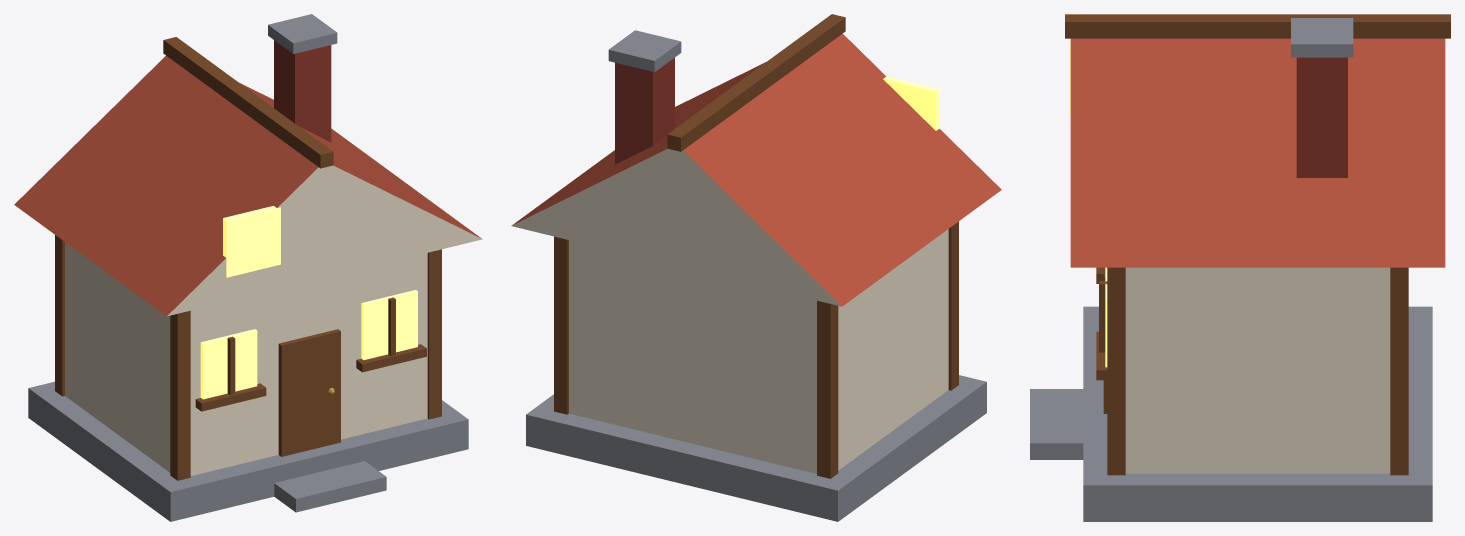
The model's file is House.glb.
3 views of the same model, side by side, from view 1: azimuth 30°, elevation 25°; view 2: azimuth 150°, elevation 25°; view 3: azimuth 270°, elevation 25° (orthographic). The views are drawn at different scales.
Parts seen in each view (by area): view 1: House; view 2: House; view 3: House.
Part boxes in pixels (bbox=[...]): House: bbox=[14, 14, 482, 521]; House: bbox=[511, 14, 1001, 521]; House: bbox=[1030, 14, 1450, 521].
Size of the model in its own units: 2.44 by 2.7 by 2.29.
